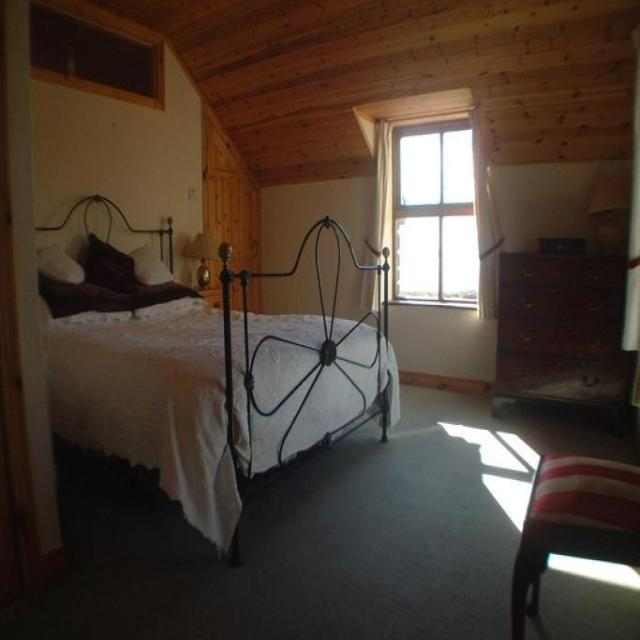bed: (35, 192, 399, 564)
chair: (510, 451, 639, 639)
cupboard: (491, 248, 632, 424)
door: (200, 106, 262, 312)
table-lamp: (182, 231, 219, 289)
window: (390, 118, 480, 306)
